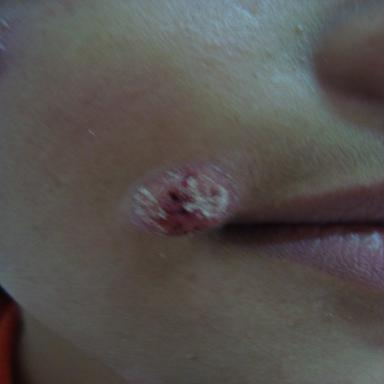Leishmanios: (131, 161, 235, 235)
